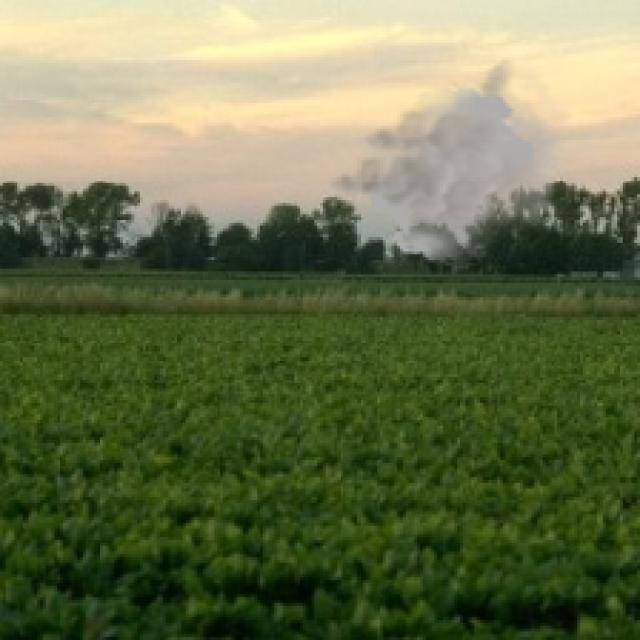Smoke: (321, 57, 568, 266)
